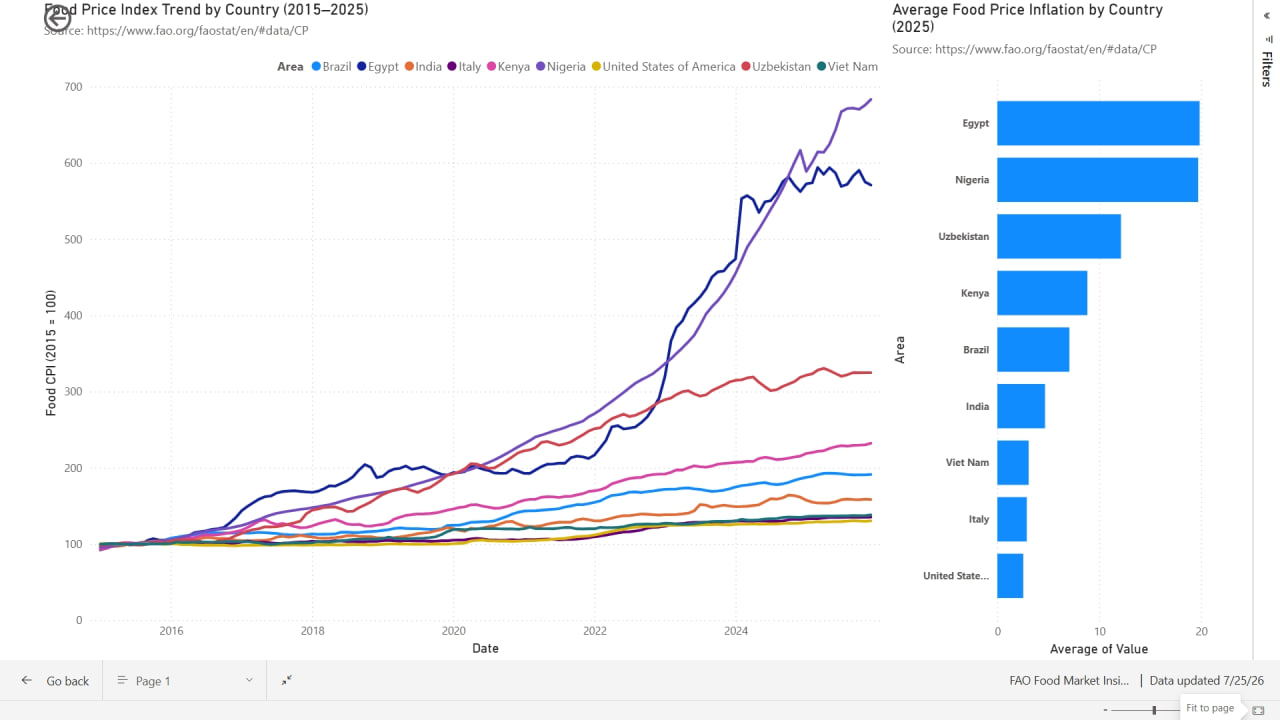

The page's visual inventory and layout, read from the dashboard file:
{"tool":"powerbi","page":{"name":"Food Price Trends & Inflation","canvas":[1280,720],"ordinal":0},"visuals":[{"type":"lineChart","title":"Food Price Index Trend by Country (2015–2025)","fields":{"Category":["FAO Food Market Insights.Date.Variation.Date Hierarchy.Year","FAO Food Market Insights.Date.Variation.Date Hierarchy.Month"],"Series":["FAO Food Market Insights.Area"],"Y":["Sum(FAO Food Market Insights.Value)"]},"box":[0,0,902.5,720.5],"z":0},{"type":"clusteredBarChart","title":"Average Food Price Inflation by Country (2025)","fields":{"Category":["FAO Food Market Insights.Area"],"Y":["Avg(FAO Food Market Insights.Value)"]},"box":[902.5,0,376.6,543.5],"z":1000},{"type":"actionButton","box":[0,0,100,40],"z":2000},{"type":"textbox","box":[902.5,543.5,376.6,177],"z":3000}]}

Visuals, with their boxes on the page's 1280x720 design canvas (x1, y1, x2, y2). These are canvas units, not pixel positions in the 1280x720 screenshot, which may show the page scaled, cropped or inside an application window:
"Food Price Index Trend by Country (2015–2025)" lineChart: [x1=0, y1=0, x2=902, y2=720]
"Average Food Price Inflation by Country (2025)" clusteredBarChart: [x1=902, y1=0, x2=1279, y2=544]
actionButton: [x1=0, y1=0, x2=100, y2=40]
textbox: [x1=902, y1=544, x2=1279, y2=720]
